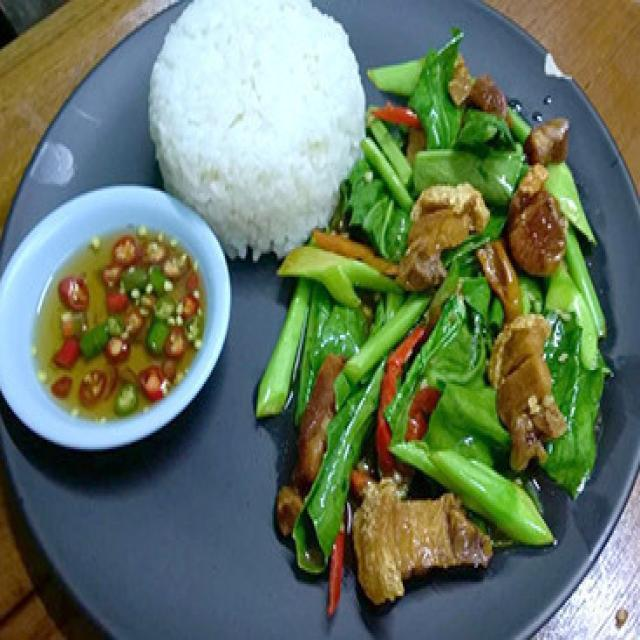cac loai rau cu: (346, 289, 499, 496), (543, 161, 604, 489), (294, 374, 383, 567), (366, 29, 453, 180), (275, 256, 385, 356), (337, 159, 400, 251), (451, 113, 507, 203)
com: (149, 0, 365, 256)
thit heo: (478, 241, 562, 467), (353, 479, 481, 616), (280, 362, 335, 534), (407, 185, 484, 292), (512, 162, 568, 280), (446, 52, 509, 113), (527, 113, 572, 159)
